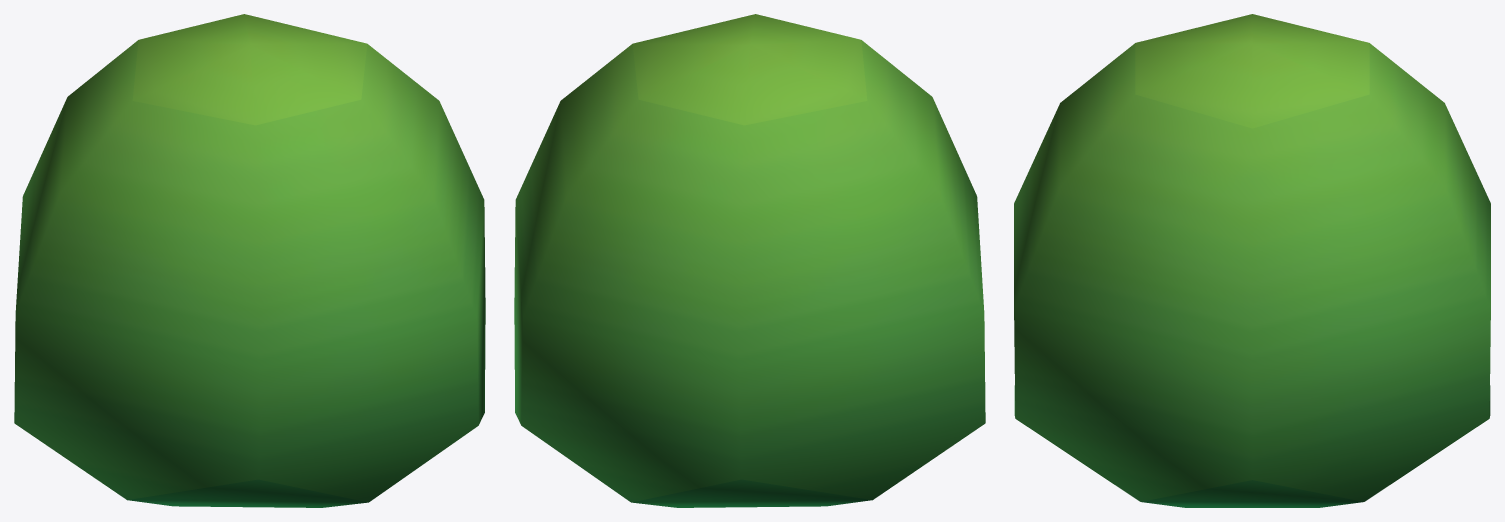
The model's file is bush_1_a_color1.697ddd3c.glb.
3 renders of one model, left to right at view 1: azimuth 30°, elevation 25°; view 2: azimuth 150°, elevation 25°; view 3: azimuth 270°, elevation 25°, orthographic.
Visible parts, largest first — view 1: Bush_1_A_Color1; view 2: Bush_1_A_Color1; view 3: Bush_1_A_Color1.
Part boxes in pixels (bbox=[...]): Bush_1_A_Color1: bbox=[14, 14, 485, 507]; Bush_1_A_Color1: bbox=[514, 14, 985, 507]; Bush_1_A_Color1: bbox=[1014, 14, 1490, 507].
Bounding box in the file's own units: 0.2672 × 0.2267 × 0.2341.
Materials: 1 (1 with a texture image).
